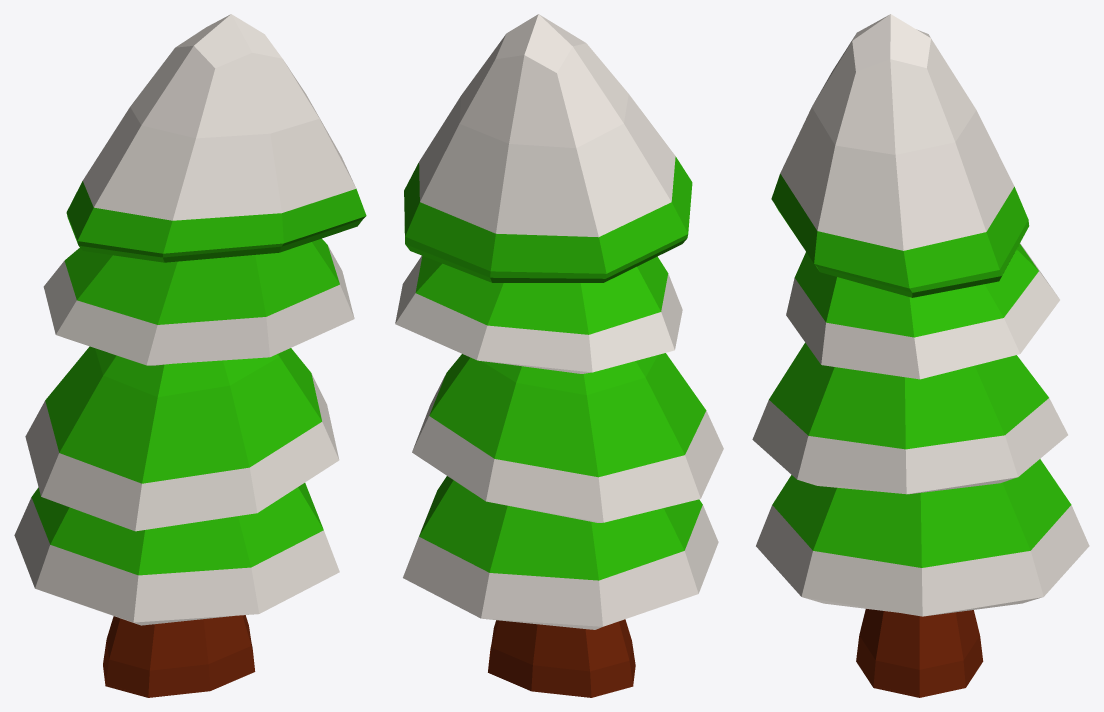
File: Snow tree3.fbx
The picture shows the model from 3 angles, left to right: view 1: azimuth 30°, elevation 25°; view 2: azimuth 150°, elevation 25°; view 3: azimuth 270°, elevation 25°; orthographic projection. The views are drawn at different scales.
Parts seen in each view (by area): view 1: Cube; view 2: Cube; view 3: Cube.
Boxes of the visible parts, <box> form: Cube: <box>14,14,366,697</box>; Cube: <box>395,14,723,697</box>; Cube: <box>752,14,1089,697</box>.
Bounding box in the file's own units: 178 × 361 × 165.
